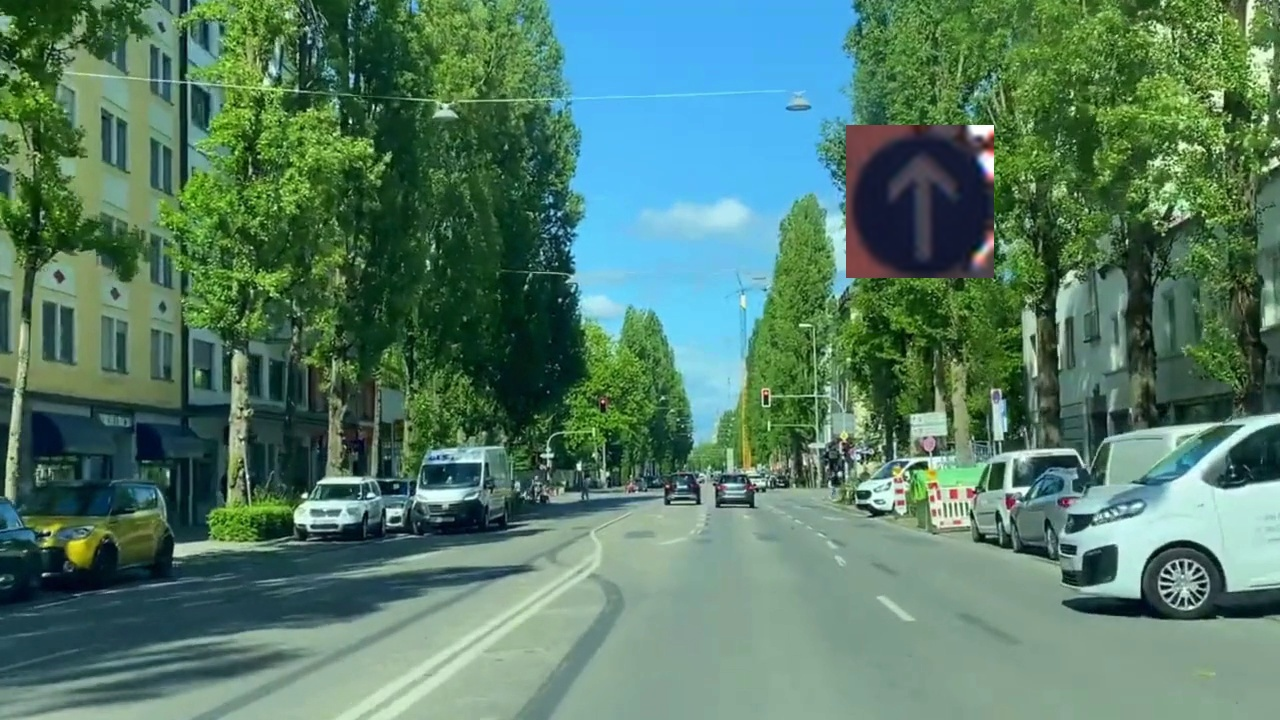Ahead only: (846, 125, 994, 278)
